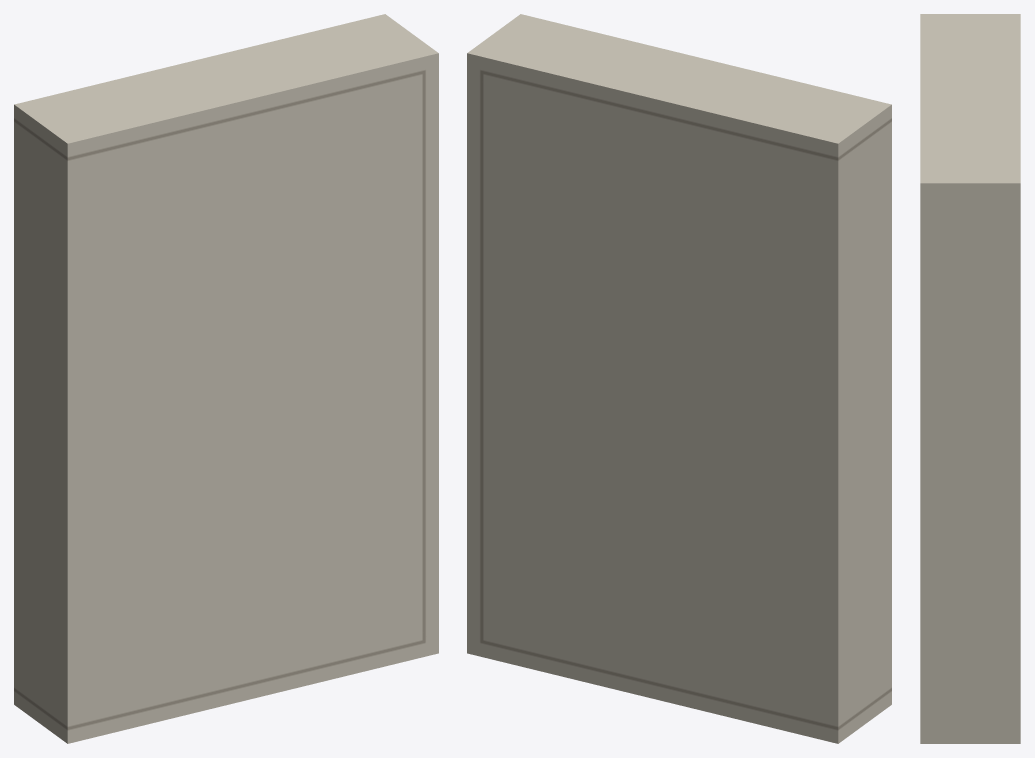
Rendered from gba_box_jp.glb.
3 views of the same model, side by side, from view 1: azimuth 30°, elevation 25°; view 2: azimuth 150°, elevation 25°; view 3: azimuth 270°, elevation 25° (orthographic). The views are drawn at different scales.
Visible parts, largest first — view 1: gba_box_jp; view 2: gba_box_jp; view 3: gba_box_jp.
Boxes of the visible parts, box(x1,y1,x2,y2) form: gba_box_jp: box(14, 14, 438, 743); gba_box_jp: box(467, 14, 891, 743); gba_box_jp: box(920, 14, 1020, 743).
Size of the model in its own units: 0.088 by 0.136 by 0.022.
1 material, 1 textured.
